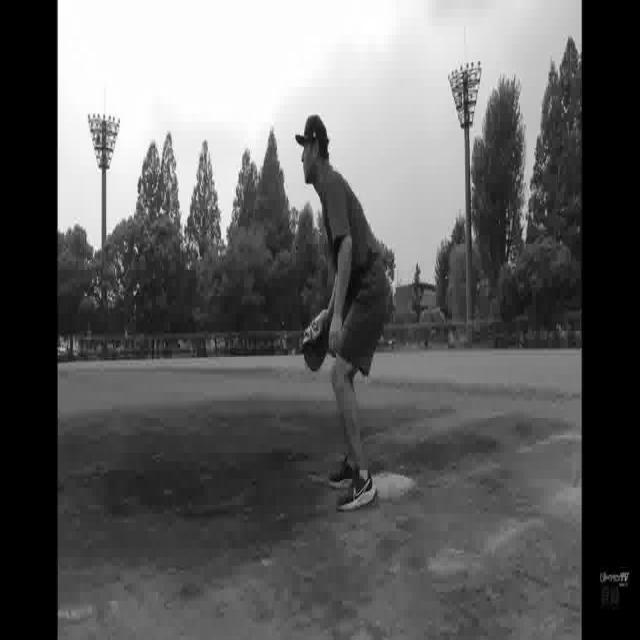base: (371, 471, 419, 501)
baseball_glove: (301, 304, 331, 368)
shoe: (337, 466, 378, 511), (330, 461, 356, 490)
